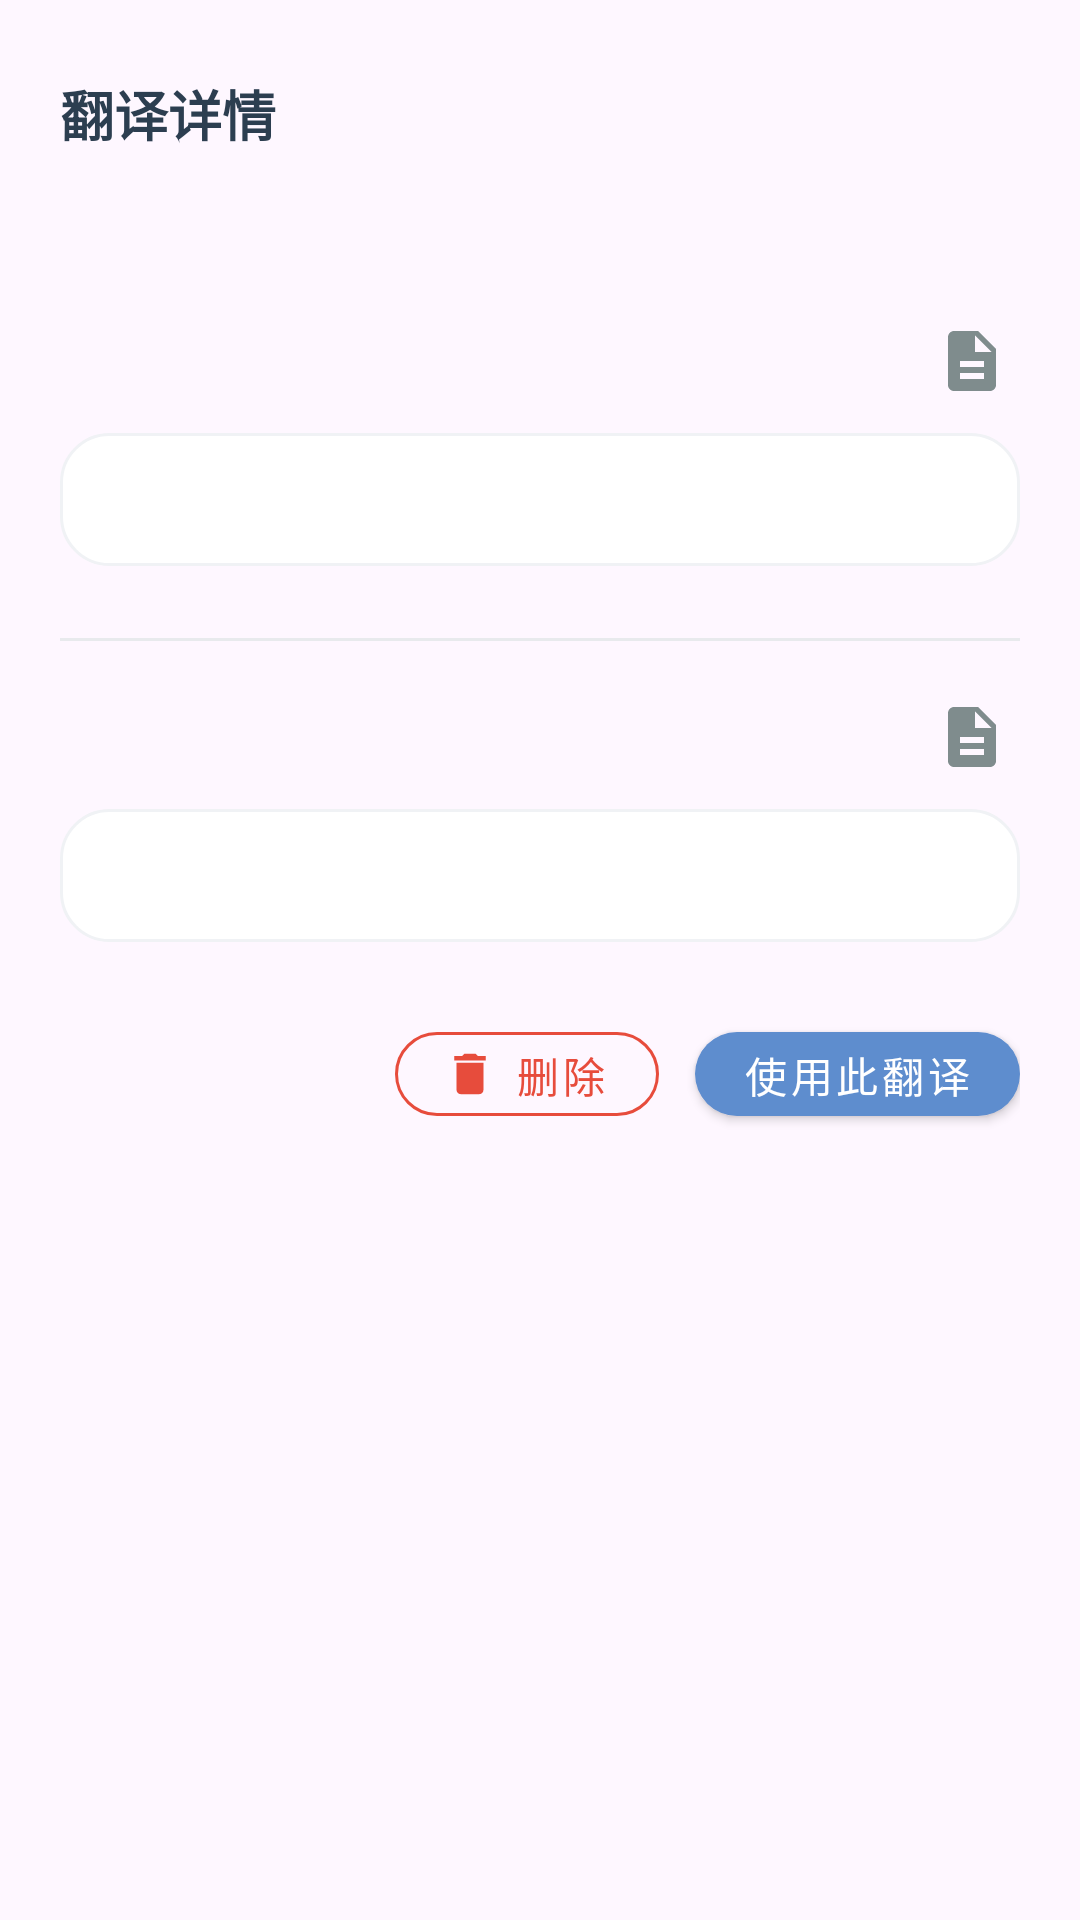

Screen size 1080×1920. Icon name, then its box in pixels as (x1, y1, x2, y2):
复制源文本: (948, 331, 996, 391)
复制翻译文本: (948, 707, 996, 767)
